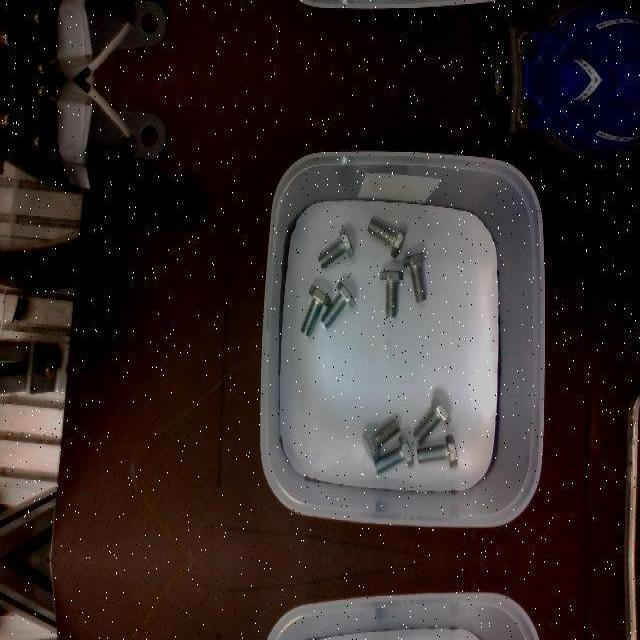screw: (413, 396, 452, 444), (374, 433, 414, 475), (362, 417, 400, 461), (321, 282, 356, 328), (300, 285, 330, 337), (317, 227, 354, 269), (367, 218, 405, 258), (416, 433, 457, 467), (402, 252, 426, 304), (380, 270, 403, 318)
